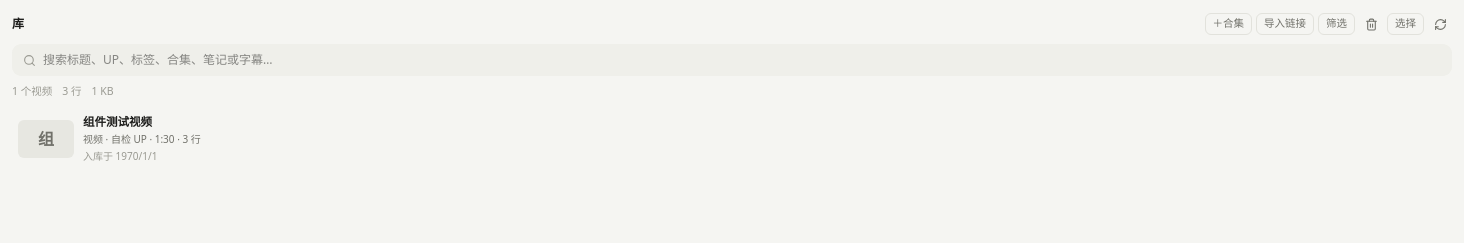
Test: LibraryPanel › 点击条目后打开详情并展示字幕
Click the text "组件测试视频". click: {"x": 118, "y": 121}
box: [83,114,152,129]
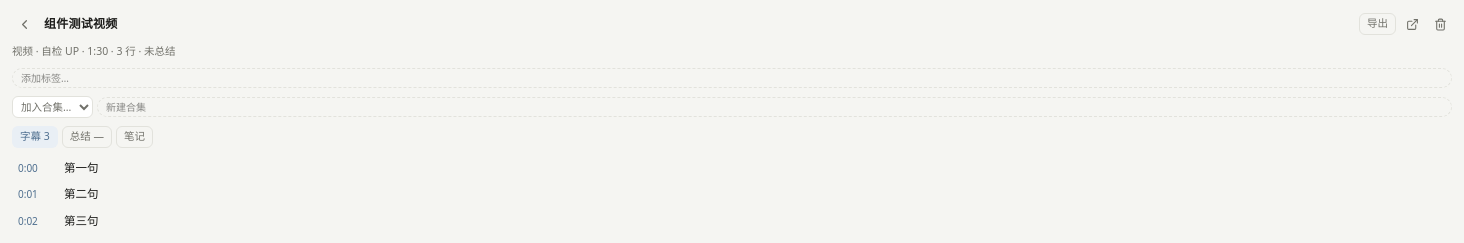
expect the text "第一句" is shown: met, box [64,160,98,175]
